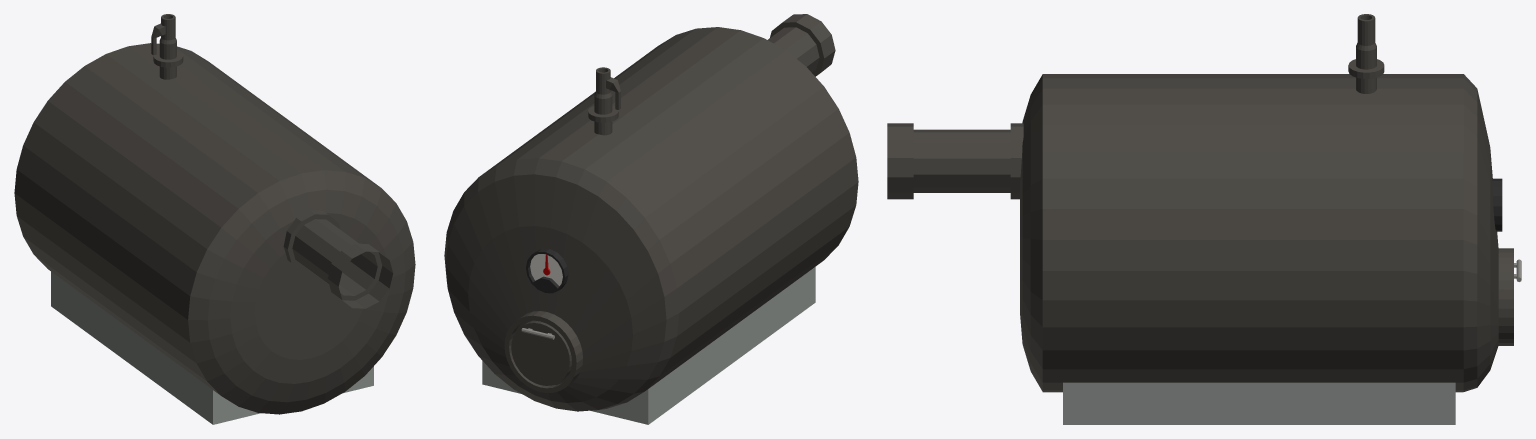
File: Boiler.fbx
3 views of the same model, side by side, from view 1: azimuth 30°, elevation 25°; view 2: azimuth 150°, elevation 25°; view 3: azimuth 270°, elevation 25° (orthographic). The views are drawn at different scales.
Parts seen in each view (by area): view 1: Boiler; view 2: Boiler, BoilerADoor; view 3: Boiler.
Part boxes in pixels (x1=…): Boiler: x1=14, y1=14, x2=415, y2=424; Boiler: x1=444, y1=14, x2=858, y2=424; BoilerADoor: x1=511, y1=320, x2=571, y2=385; Boiler: x1=887, y1=14, x2=1513, y2=424.
Size of the model in its own units: 6 by 7.48 by 11.96.
2 materials, 1 textured.
